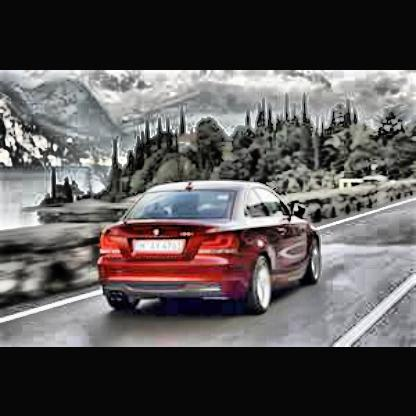BMW 1 Series Coupe 2012: (101, 163, 324, 314)
